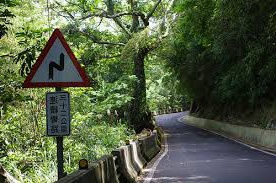Double_bend_right: (22, 28, 93, 87)
